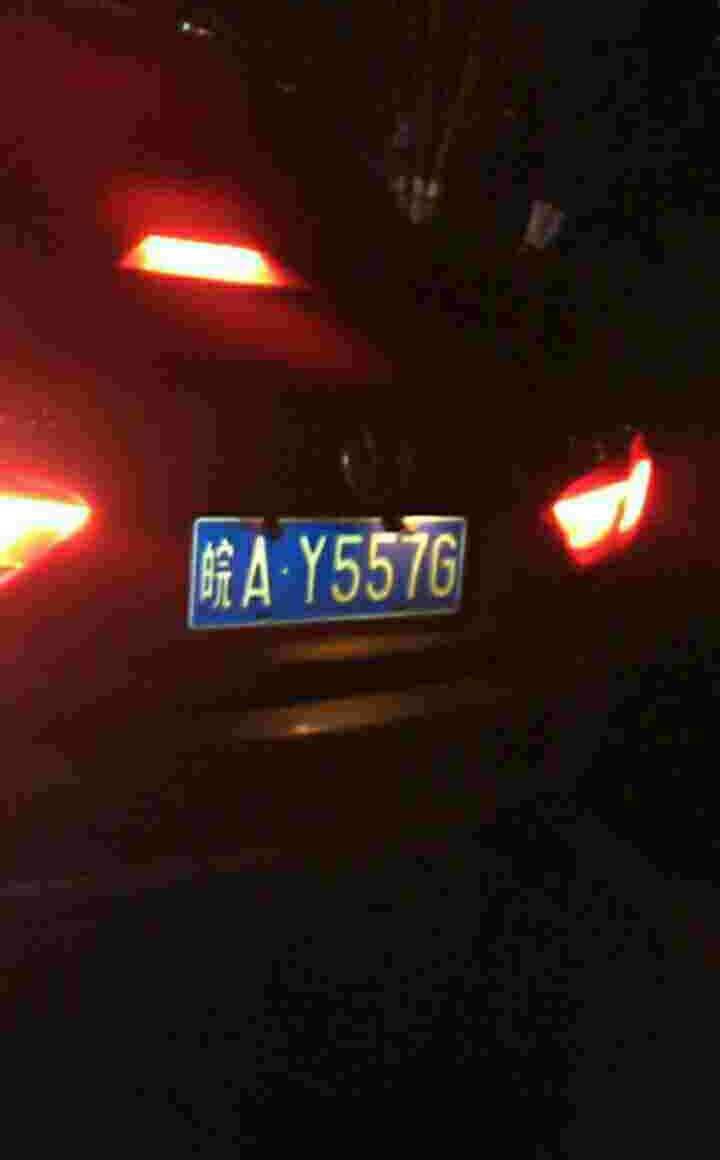license_plate: (182, 521, 478, 612)
